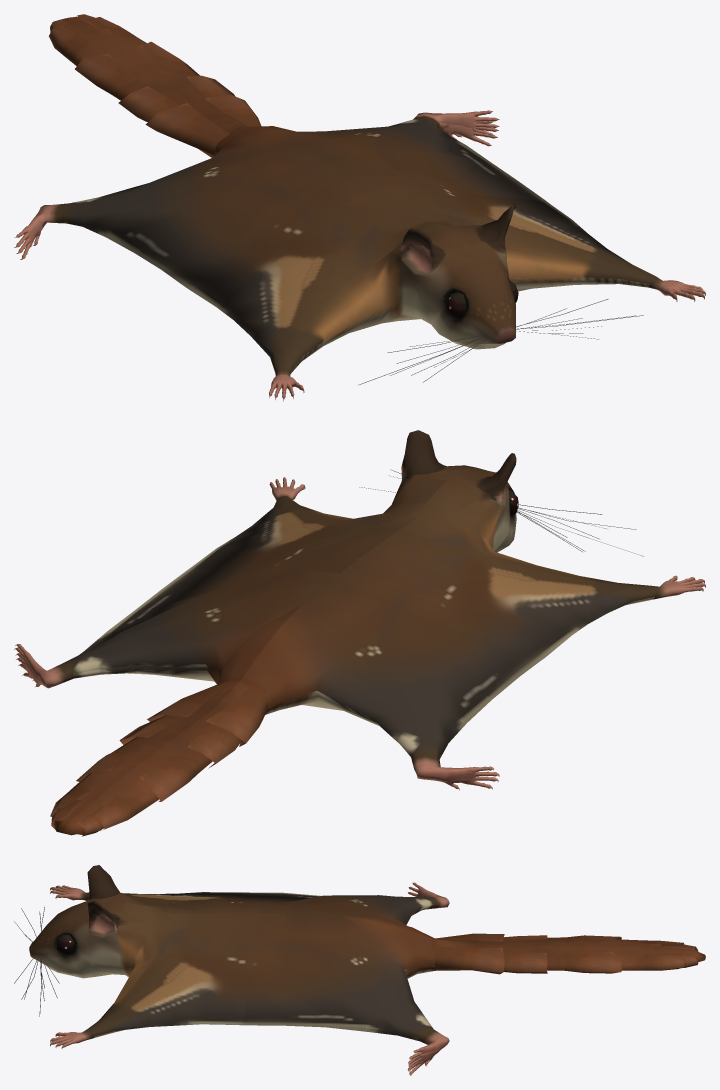
The model's file is squirrel.obj.
3 views of the same model, one above another, from view 1: azimuth 30°, elevation 25°; view 2: azimuth 150°, elevation 25°; view 3: azimuth 270°, elevation 25° (orthographic). The views are drawn at different scales.
Parts seen in each view (by area): view 1: squirrel_rigged, squirrel; view 2: squirrel_rigged, squirrel; view 3: squirrel_rigged, squirrel.
Boxes of the visible parts, x1,y1,x2,y2 form: squirrel_rigged: [14, 14, 705, 401]; squirrel: [70, 14, 705, 347]; squirrel_rigged: [16, 431, 705, 836]; squirrel: [14, 430, 486, 833]; squirrel_rigged: [14, 865, 705, 1075]; squirrel: [14, 900, 705, 1069].
Bounding box in the file's own units: 12.04 × 3.34 × 19.59.
1 material, 1 textured.
